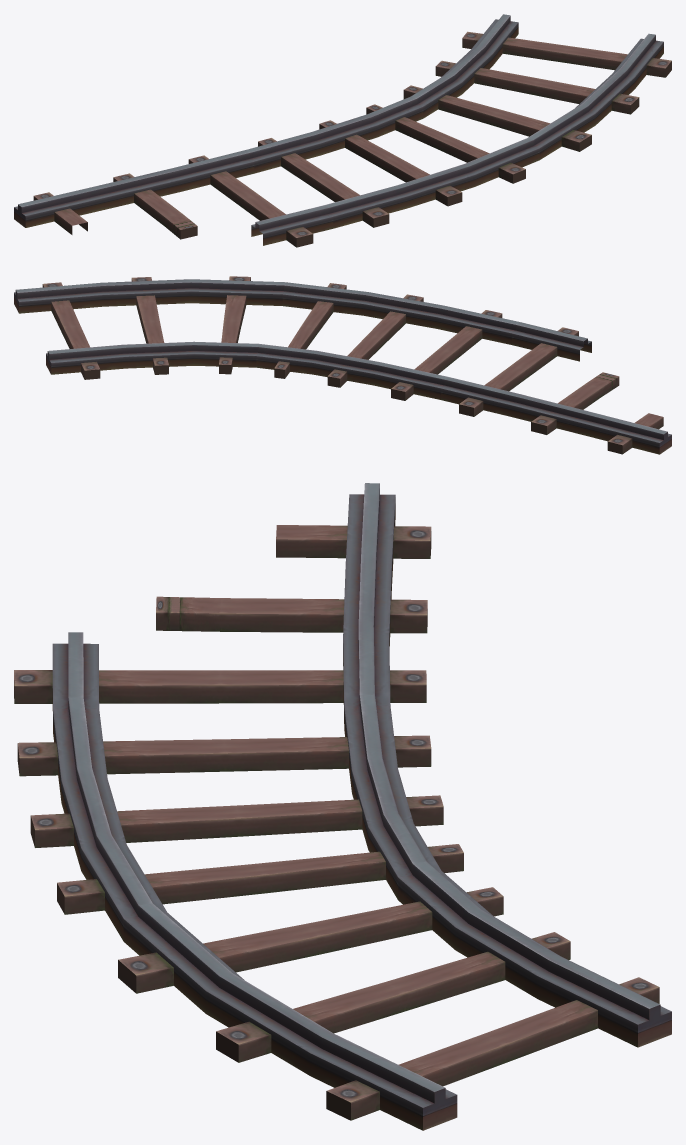
The model's file is scene_malujiakuangdao_tielu02.FBX.
3 renders of one model, top to bottom at view 1: azimuth 30°, elevation 25°; view 2: azimuth 150°, elevation 25°; view 3: azimuth 270°, elevation 25°, orthographic. The views are drawn at different scales.
Parts seen in each view (by area): view 1: scene_malujiakuangdao_tielu02; view 2: scene_malujiakuangdao_tielu02; view 3: scene_malujiakuangdao_tielu02.
Boxes of the visible parts, x1=… form: scene_malujiakuangdao_tielu02: x1=14, y1=14, x2=671, y2=247; scene_malujiakuangdao_tielu02: x1=14, y1=276, x2=671, y2=454; scene_malujiakuangdao_tielu02: x1=14, y1=483, x2=671, y2=1130.
Size of the model in its own units: 801 by 20.86 by 363.
